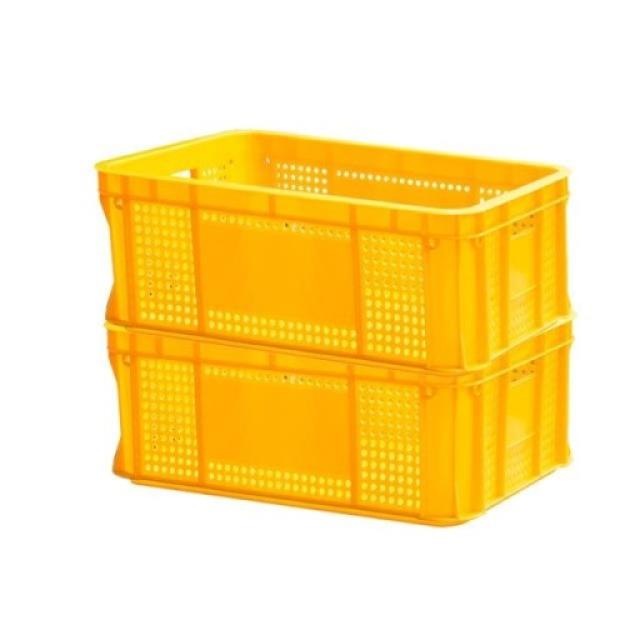basket: (62, 113, 605, 539)
